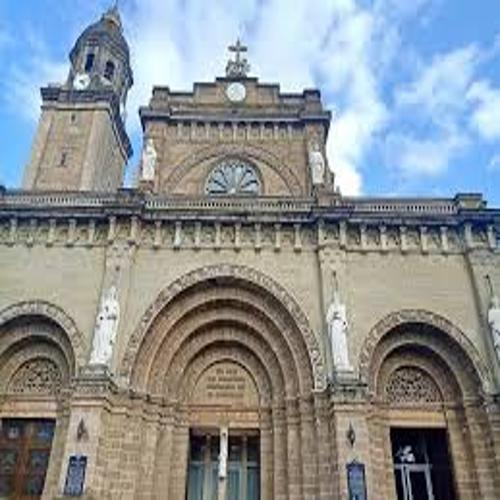Manila Cathedral Church: (6, 3, 500, 455)
